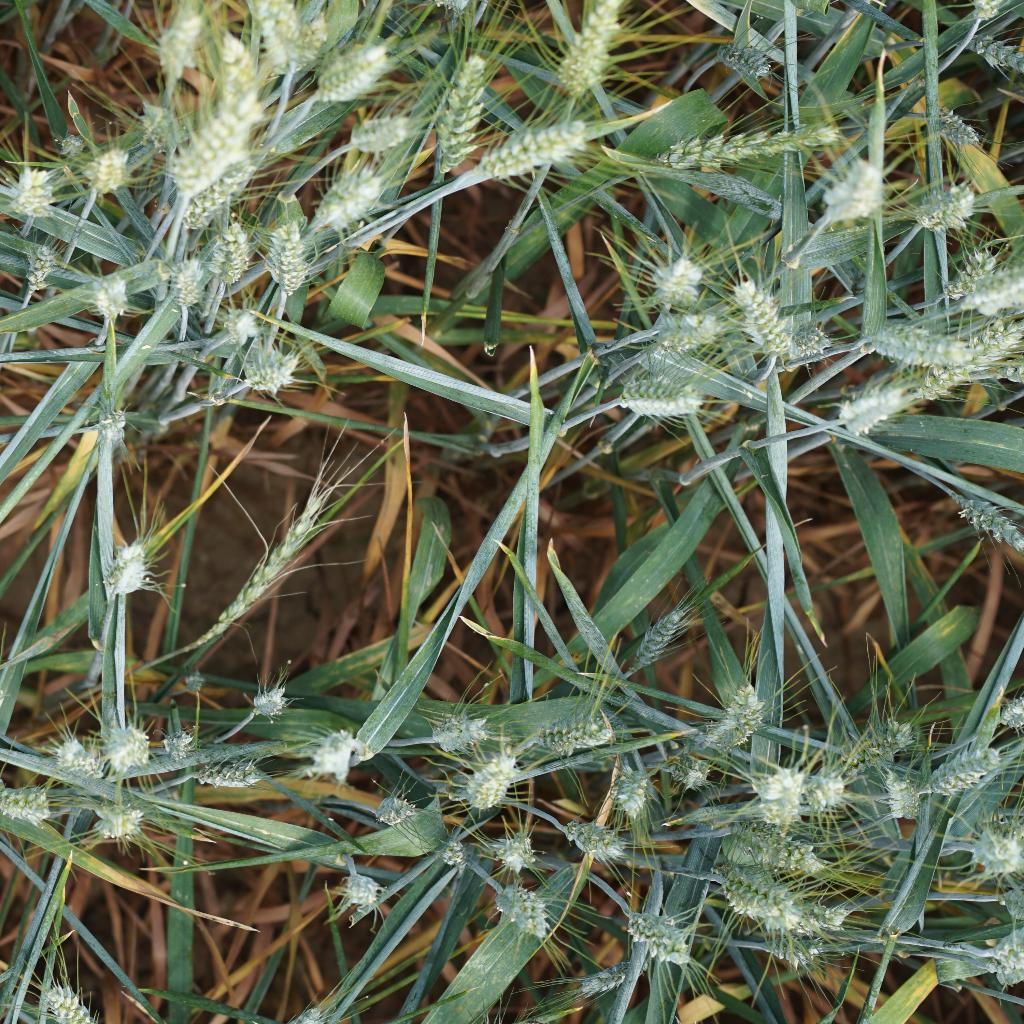0-0: (204, 505, 337, 645), (635, 114, 841, 179), (903, 306, 1024, 405), (167, 83, 264, 195), (695, 862, 841, 931), (804, 148, 900, 231), (433, 48, 496, 171), (944, 475, 1024, 569), (855, 310, 970, 372), (557, 0, 627, 98), (484, 120, 592, 183), (716, 825, 823, 888), (714, 271, 792, 355), (302, 167, 392, 239), (299, 34, 395, 101), (254, 215, 325, 302), (822, 381, 926, 440), (937, 245, 1024, 312), (602, 366, 703, 422), (923, 735, 1004, 804), (324, 107, 417, 167), (96, 539, 172, 612), (904, 175, 982, 246), (231, 336, 310, 404), (447, 744, 527, 810), (526, 697, 609, 757), (638, 236, 706, 309), (243, 0, 306, 78), (703, 679, 766, 757), (294, 722, 370, 785), (851, 709, 922, 776), (949, 811, 1021, 877), (640, 306, 730, 357), (187, 754, 279, 803), (32, 965, 108, 1024), (638, 597, 697, 672), (485, 882, 559, 941), (565, 811, 634, 874), (748, 755, 804, 832), (318, 859, 399, 911), (627, 908, 701, 963), (197, 221, 254, 292), (127, 97, 189, 160), (149, 0, 206, 68), (570, 959, 642, 1012), (79, 129, 134, 198), (737, 926, 821, 971), (75, 795, 153, 841), (716, 29, 787, 78), (82, 268, 134, 332), (423, 703, 492, 751), (7, 236, 62, 296), (481, 825, 548, 874), (979, 926, 1024, 997), (104, 725, 157, 781), (7, 163, 59, 220), (81, 395, 145, 440), (606, 759, 664, 807), (44, 720, 97, 772), (161, 250, 201, 318), (929, 96, 983, 145), (240, 679, 296, 725), (0, 778, 49, 828), (810, 757, 849, 818), (960, 37, 1024, 74), (879, 769, 919, 822), (422, 830, 473, 870), (786, 320, 837, 359), (664, 752, 713, 791), (369, 795, 415, 836), (163, 722, 198, 774), (208, 303, 256, 340), (50, 129, 87, 161)
